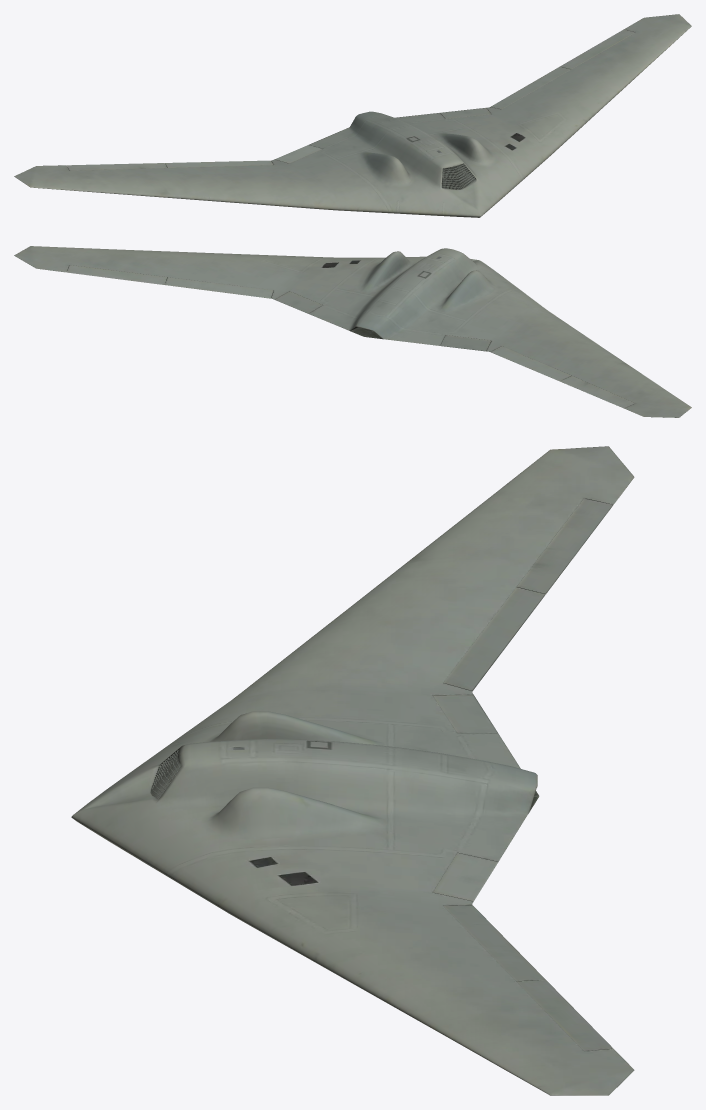
The picture shows the model from 3 angles, top to bottom: view 1: azimuth 30°, elevation 25°; view 2: azimuth 150°, elevation 25°; view 3: azimuth 270°, elevation 25°; orthographic projection. The views are drawn at different scales.
Visible parts, largest first — view 1: Object_2; view 2: Object_2; view 3: Object_2.
Part boxes in pixels (x1=…): Object_2: x1=14, y1=14, x2=691, y2=217; Object_2: x1=14, y1=246, x2=691, y2=417; Object_2: x1=71, y1=446, x2=634, y2=1095.
Bounding box in the file's own units: 742 × 54.29 × 272.
Materials: 1 (1 with a texture image).
